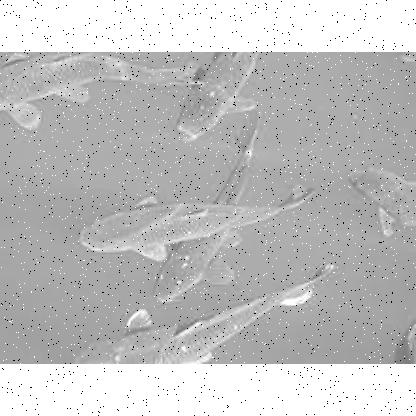ikan-mas: (66, 275, 328, 363), (77, 190, 317, 244)
